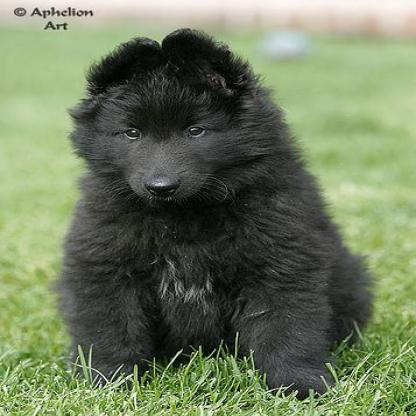groenendael: (52, 26, 379, 401)
